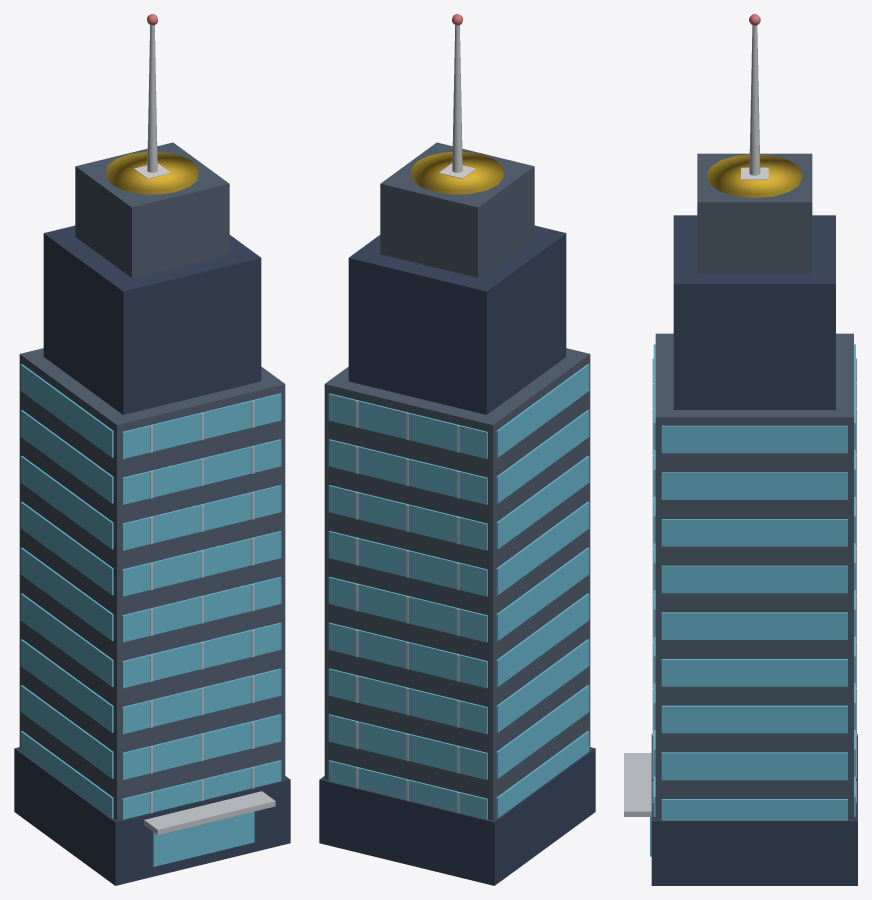
The model's file is skyscraper.glb.
3 renders of one model, left to right at view 1: azimuth 30°, elevation 25°; view 2: azimuth 150°, elevation 25°; view 3: azimuth 270°, elevation 25°, orthographic.
Parts seen in each view (by area): view 1: Root; view 2: Root; view 3: Root.
Boxes of the visible parts, x1,y1,x2,y2 form: Root: (14, 14, 290, 885); Root: (319, 14, 595, 885); Root: (624, 14, 857, 885).
Bounding box in the file's own units: 10.4 × 46.1 × 11.8.
